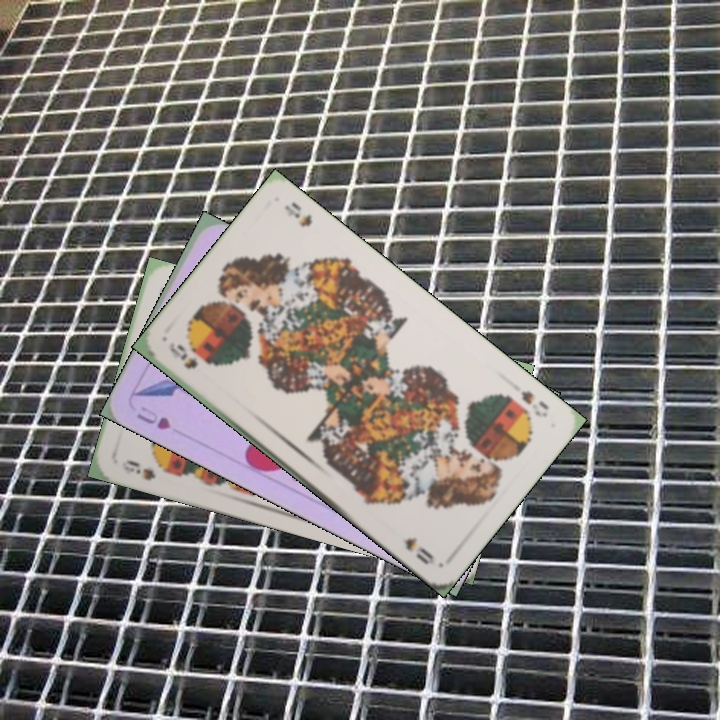HU: (132, 401, 174, 433)
S9: (118, 456, 175, 483)
SO: (517, 386, 552, 420), (165, 339, 201, 372)
